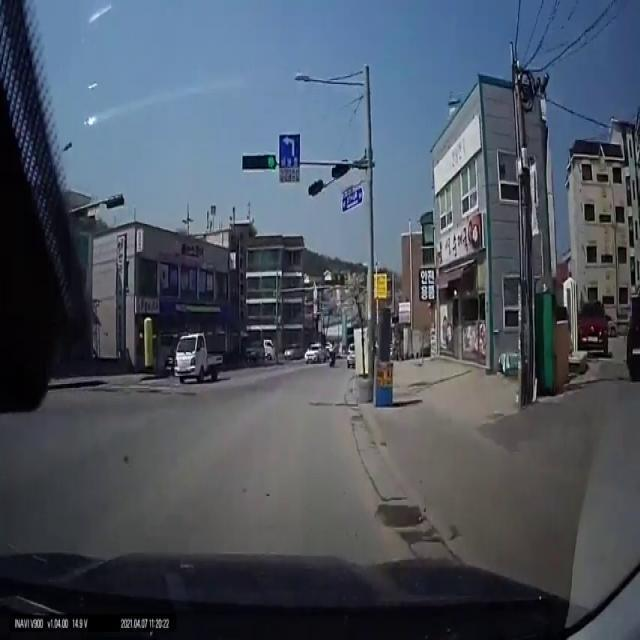pothole: (373, 500, 427, 531)
